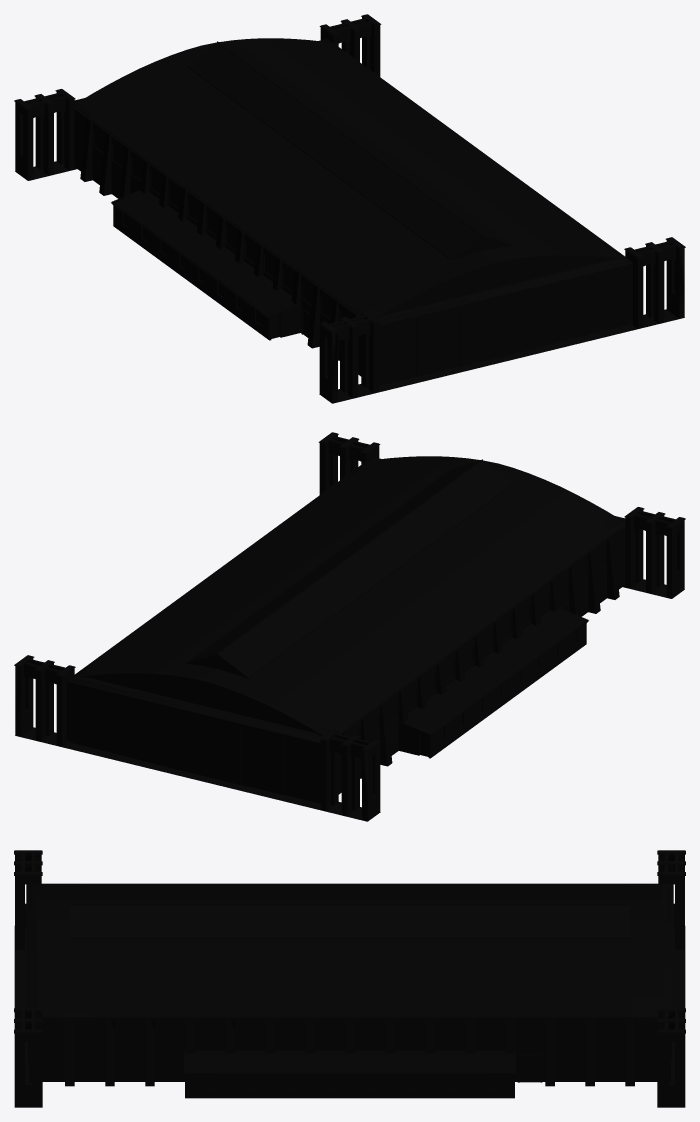
Rendered from hangar_arch.glb.
3 renders of one model, top to bottom at view 1: azimuth 30°, elevation 25°; view 2: azimuth 150°, elevation 25°; view 3: azimuth 270°, elevation 25°, orthographic. The views are drawn at different scales.
Visible parts, largest first — view 1: hangar_arch; view 2: hangar_arch; view 3: hangar_arch.
Boxes of the visible parts, x1=… form: hangar_arch: x1=14, y1=14, x2=685, y2=403; hangar_arch: x1=14, y1=432, x2=685, y2=821; hangar_arch: x1=14, y1=850, x2=685, y2=1107.
Bounding box in the file's own units: 35.1 × 10.06 × 54.64.
1 material, 1 textured.
